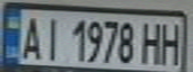1: (63, 16, 87, 62)
7: (100, 17, 121, 64)
8: (115, 18, 139, 64)
9: (84, 16, 103, 63)
A: (15, 12, 45, 61)
H: (157, 18, 187, 65), (136, 19, 166, 65)
I: (39, 12, 66, 62)
